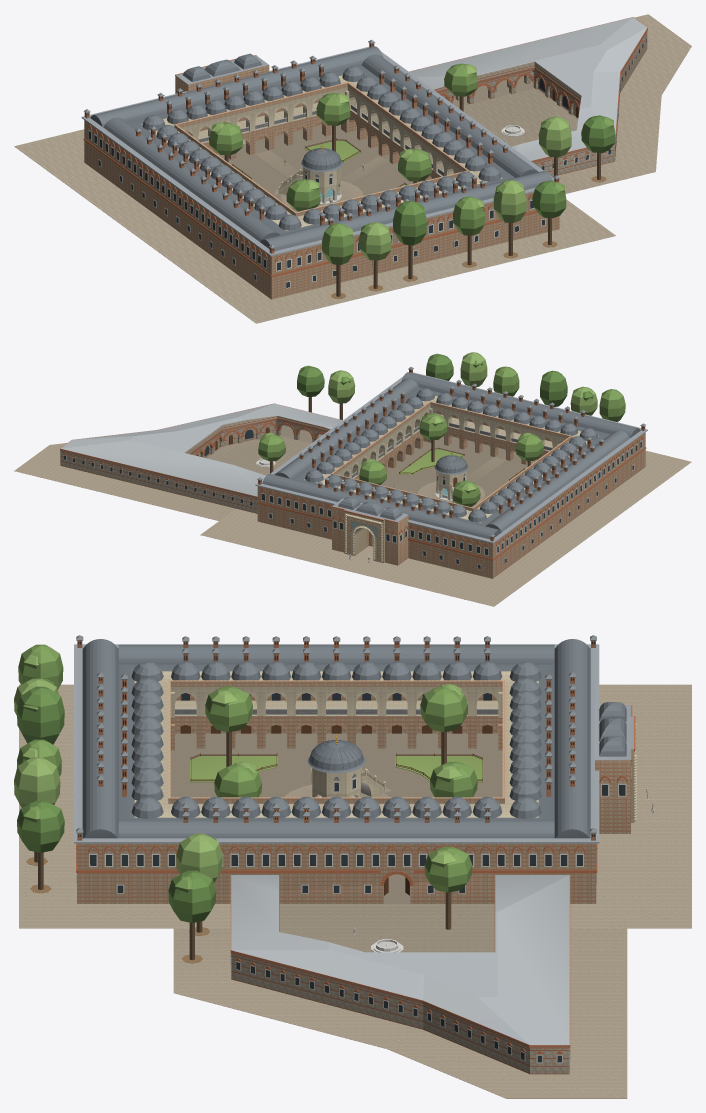
The model's file is koza-han_v11.glb.
The picture shows the model from 3 angles, top to bottom: view 1: azimuth 30°, elevation 25°; view 2: azimuth 150°, elevation 25°; view 3: azimuth 270°, elevation 25°; orthographic projection. The views are drawn at different scales.
Visible parts, largest first — view 1: Cevre_Doseme, Cati, Govde_Dis, Ic_Koza, Kubbe_Avlu, Avlu_Zemin, Avlu_Revak, Baca, Avlu_Agac, Cephe, Portal, Cevre_Agac_03 (+11 smaller); view 2: Cevre_Doseme, Ic_Koza, Cati, Govde_Dis, Kubbe_Avlu, Avlu_Zemin, Avlu_Revak, Portal, Baca, Avlu_Agac, Cephe, Cevre_Agac_03 (+11 smaller); view 3: Cevre_Doseme, Cati, Ic_Koza, Govde_Dis, Avlu_Zemin, Kubbe_Avlu, Avlu_Revak, Avlu_Agac, Baca, Cephe, Portal, Avlu_Cim (+11 smaller).
Part boxes in pixels (x1,y1,x2,y2): Cevre_Doseme: (14, 14, 691, 323); Cati: (81, 46, 561, 256); Govde_Dis: (84, 65, 559, 299); Ic_Koza: (409, 17, 647, 176); Kubbe_Avlu: (142, 66, 501, 230); Avlu_Zemin: (217, 72, 578, 212); Avlu_Revak: (141, 75, 502, 230); Baca: (84, 39, 559, 253); Avlu_Agac: (209, 63, 477, 211); Cephe: (88, 88, 545, 288); Portal: (175, 53, 269, 93); Cevre_Agac_03: (393, 200, 426, 281); Cevre_Doseme: (14, 443, 691, 606); Ic_Koza: (60, 403, 342, 513); Cati: (255, 372, 647, 543); Govde_Dis: (257, 387, 645, 578); Kubbe_Avlu: (305, 388, 597, 522); Avlu_Zemin: (205, 425, 536, 507); Avlu_Revak: (304, 396, 598, 522); Portal: (331, 497, 408, 565); Baca: (257, 367, 645, 541); Avlu_Agac: (258, 413, 543, 506); Cephe: (260, 436, 642, 569); Cevre_Agac_03: (540, 370, 567, 406); Cevre_Doseme: (19, 684, 691, 1098); Cati: (74, 639, 599, 843); Ic_Koza: (230, 875, 570, 1074); Govde_Dis: (77, 664, 596, 903); Avlu_Zemin: (170, 733, 502, 952); Kubbe_Avlu: (131, 661, 541, 818); Avlu_Revak: (134, 671, 538, 817); Avlu_Agac: (205, 683, 477, 929); Baca: (76, 635, 596, 840); Cephe: (76, 767, 631, 893); Portal: (595, 702, 636, 833); Avlu_Cim: (190, 753, 483, 782).
Bounding box in the file's own units: 136 × 16.42 × 93.97.
40 materials, 16 textured.
